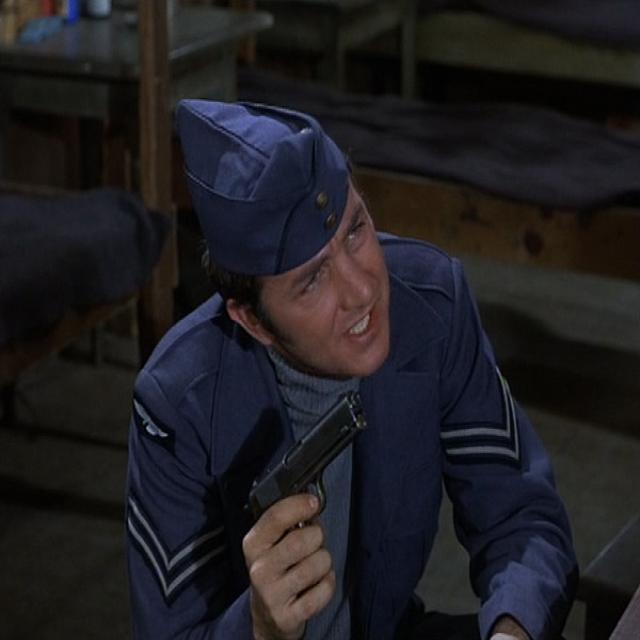weapons: (231, 381, 377, 619)
